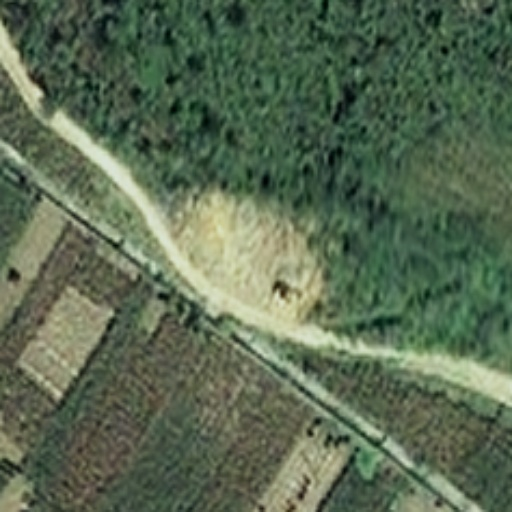landslide: (171, 187, 324, 324)
